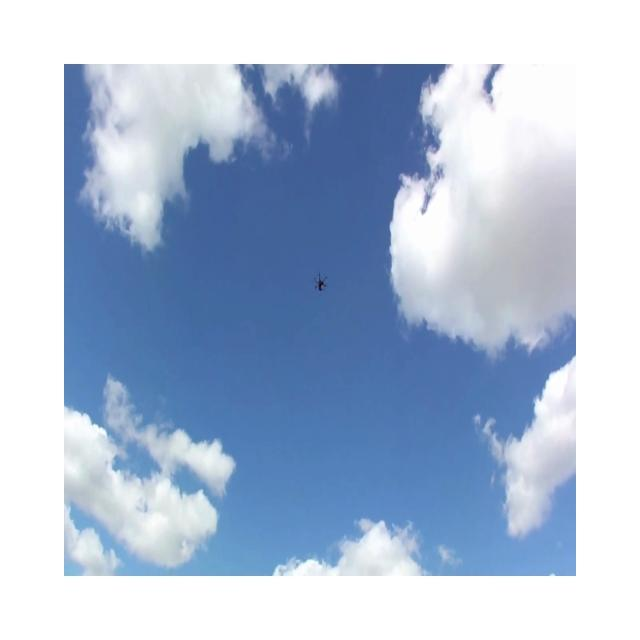drone: (314, 272, 327, 292)
